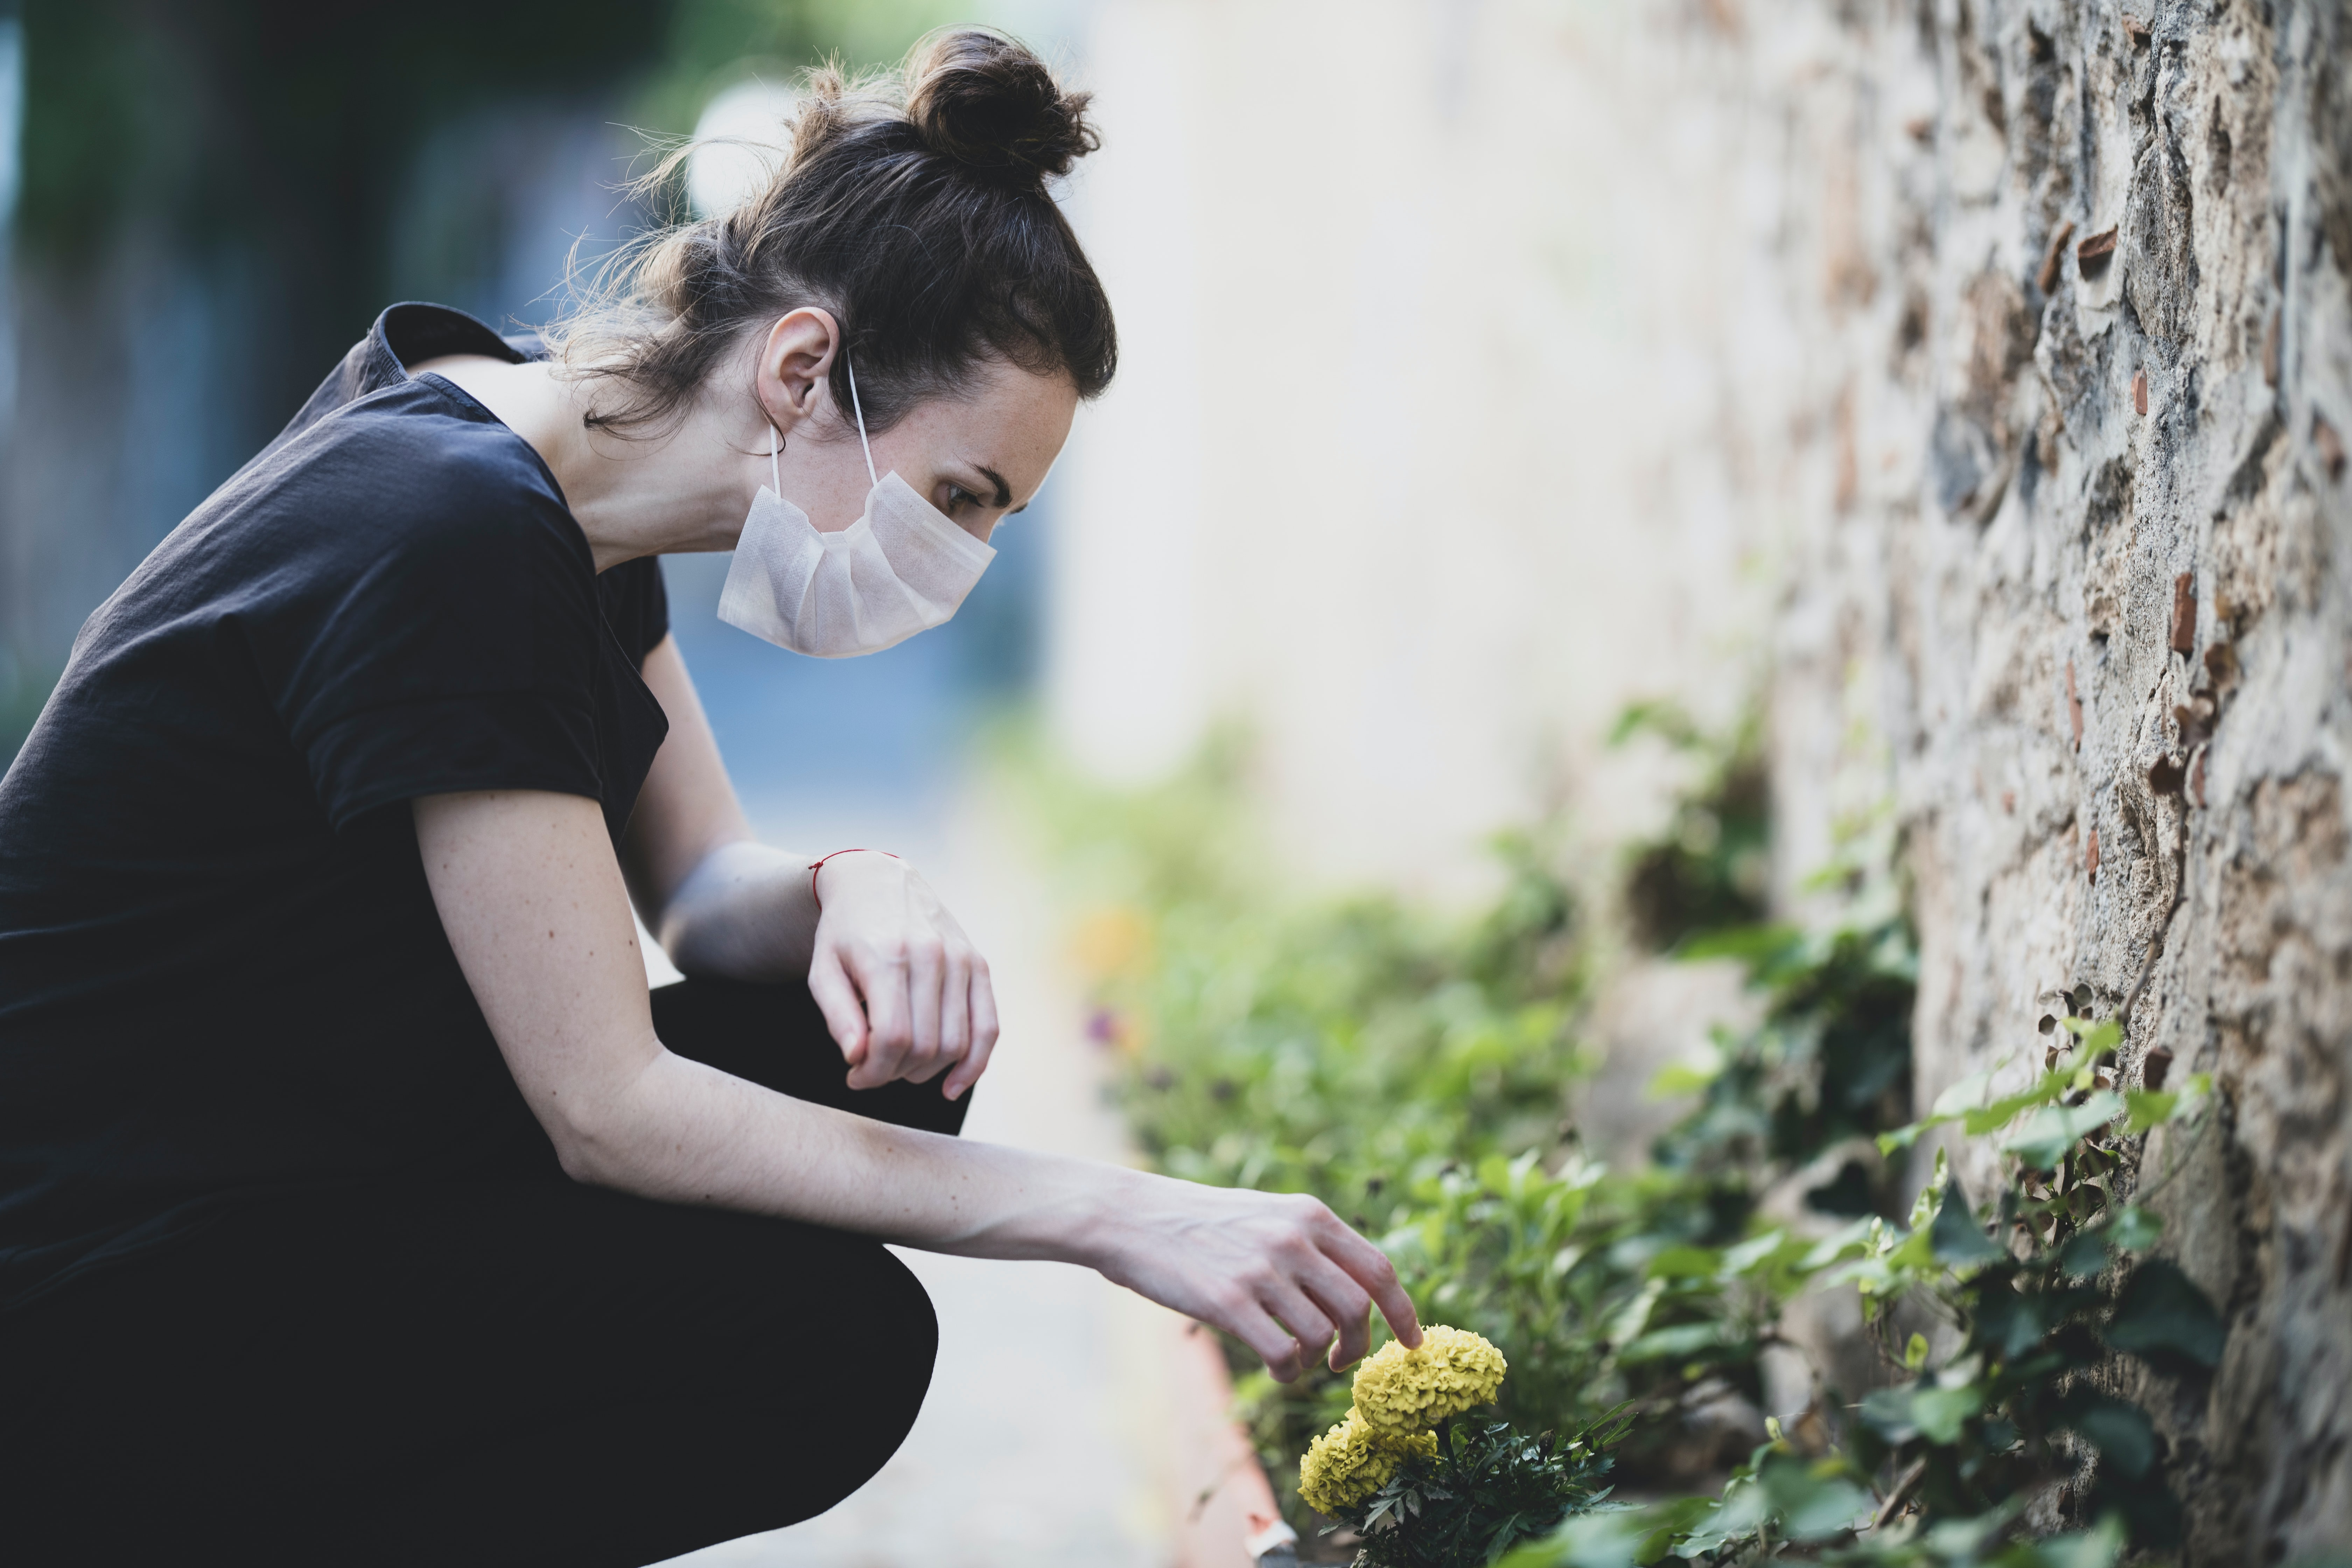mask: (728, 475, 1001, 676)
person: (3, 44, 1410, 1568)
